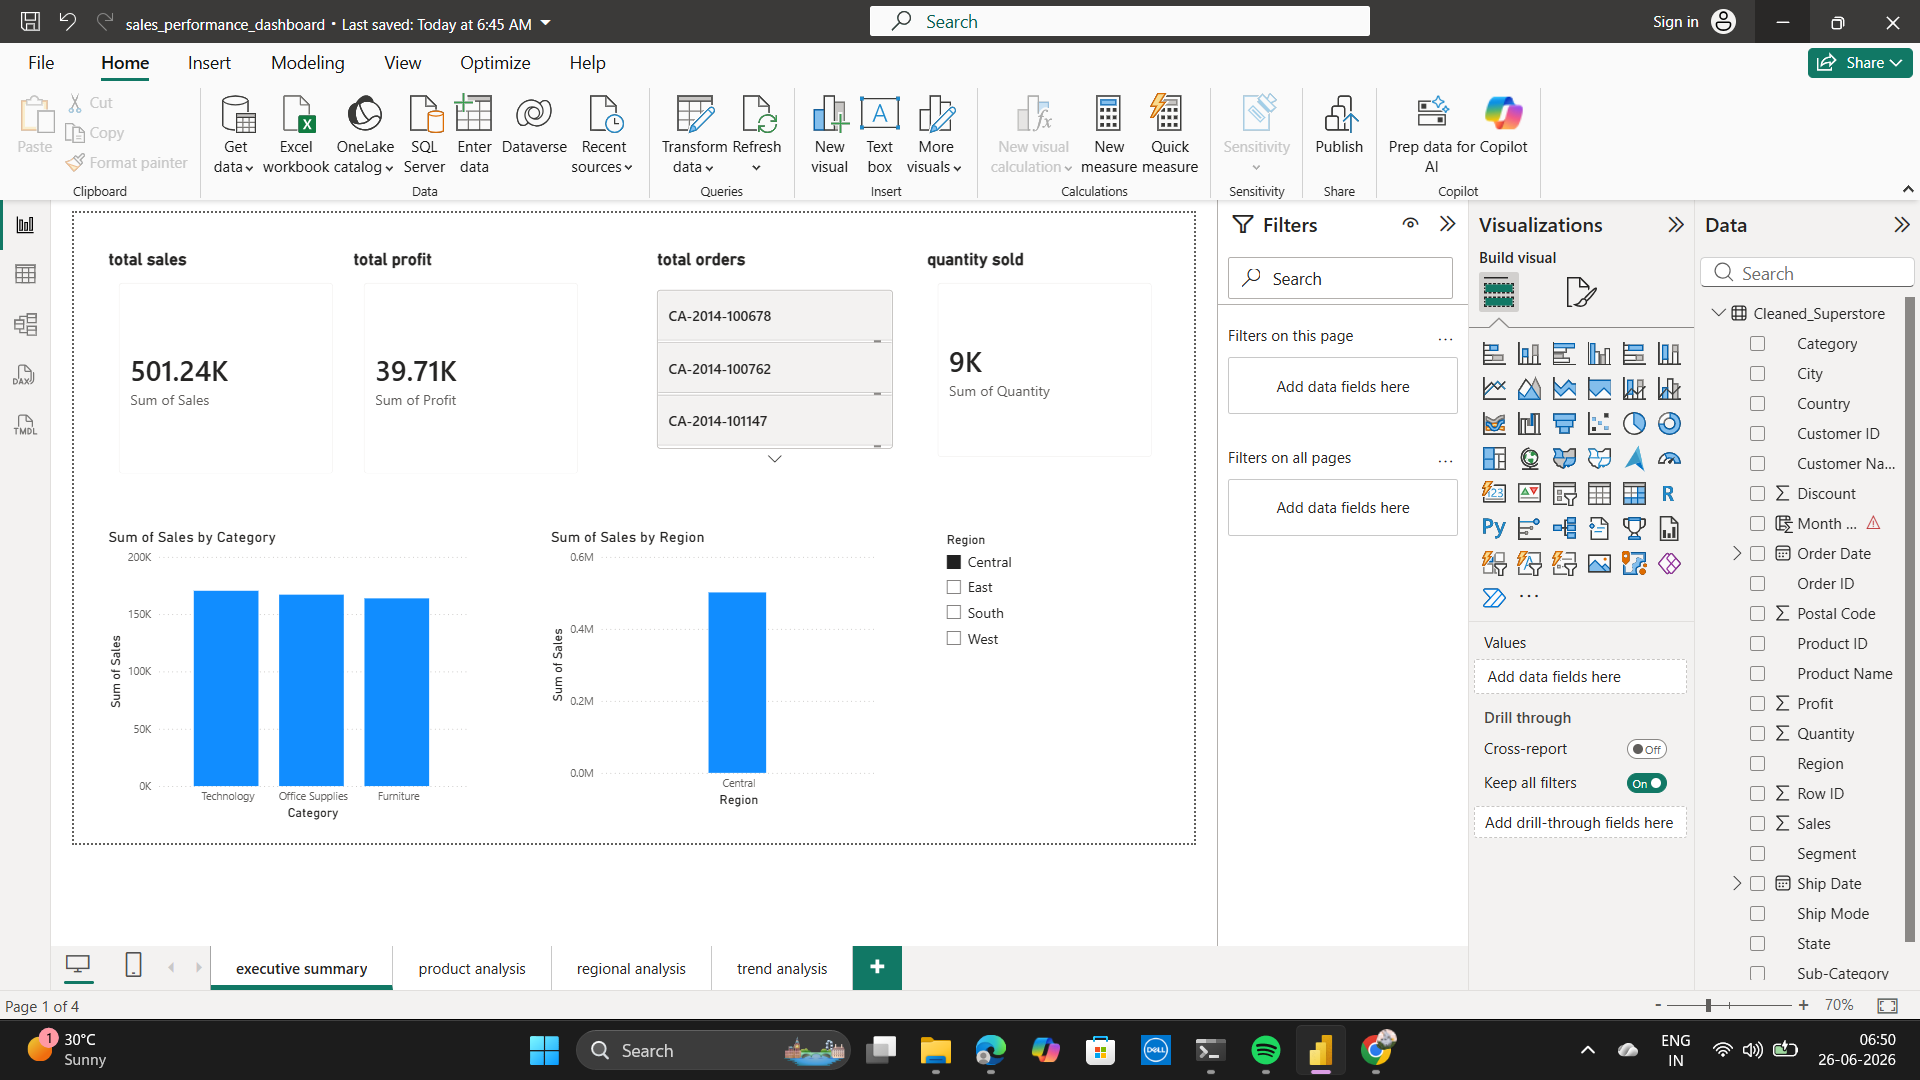

This screenshot's page, from the dashboard's own definition file:
{"tool":"powerbi","page":{"name":"executive summary","canvas":[1280,720],"ordinal":0},"visuals":[{"type":"cardVisual","title":"total sales","fields":{"Data":["Sum(Cleaned_Superstore.Sales)"]},"box":[34.3,41.2,279.9,274.4],"z":0},{"type":"cardVisual","title":"total profit","fields":{"Data":["Sum(Cleaned_Superstore.Profit)"]},"box":[314.2,41.2,279.9,274.4],"z":1000},{"type":"cardVisual","title":"total orders","fields":{"Rows":["Cleaned_Superstore.Order ID"]},"box":[661.4,41.2,279.9,255.2],"z":2000},{"type":"cardVisual","title":"quantity sold","fields":{"Data":["Sum(Cleaned_Superstore.Quantity)"]},"box":[970.2,41.2,279.9,255.2],"z":3000},{"type":"clusteredColumnChart","fields":{"Category":["Cleaned_Superstore.Category"],"Y":["Sum(Cleaned_Superstore.Sales)"]},"box":[34.3,359.5,419.9,338.9],"z":4000},{"type":"clusteredColumnChart","fields":{"Category":["Cleaned_Superstore.Region"],"Y":["Sum(Cleaned_Superstore.Sales)"]},"box":[540.7,359.5,381.5,323.8],"z":5000},{"type":"slicer","fields":{"Values":["Cleaned_Superstore.Region"]},"box":[983.9,359.5,279.9,258],"z":6000}]}

Visuals, with their boxes on the page's 1280x720 design canvas (x1, y1, x2, y2). These are canvas units, not pixel positions in the 1920x1080 screenshot, which may show the page scaled, cropped or inside an application window:
"total sales" cardVisual: Rect(34, 41, 314, 316)
"total profit" cardVisual: Rect(314, 41, 594, 316)
"total orders" cardVisual: Rect(661, 41, 941, 296)
"quantity sold" cardVisual: Rect(970, 41, 1250, 296)
clusteredColumnChart - Cleaned_Superstore.Category x Sum(Cleaned_Superstore.Sales): Rect(34, 360, 454, 698)
clusteredColumnChart - Cleaned_Superstore.Region x Sum(Cleaned_Superstore.Sales): Rect(541, 360, 922, 683)
slicer - Cleaned_Superstore.Region: Rect(984, 360, 1264, 618)
